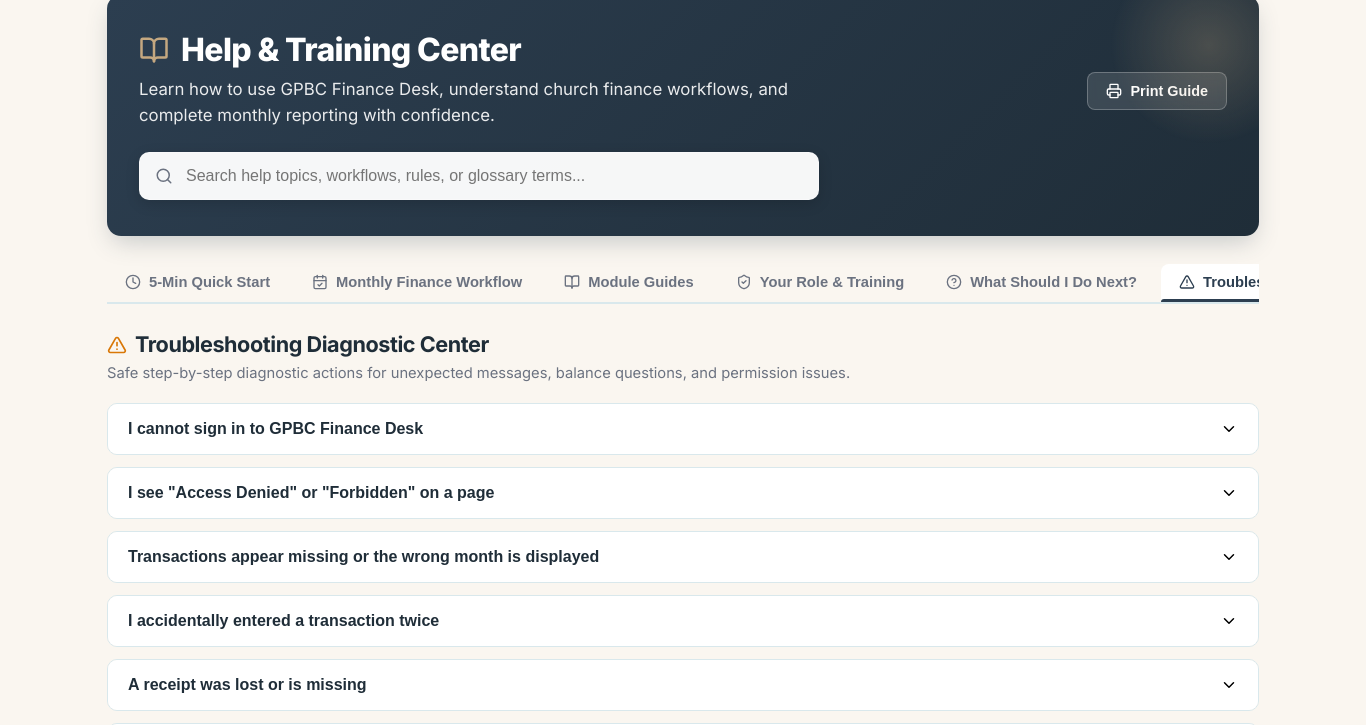
Scenario: HelpCenter Component › 9. Troubleshooting Center expands diagnosis accordions with safe steps
This screenshot has width=1366, height=725.
Click the button "I cannot sign in to GPBC Finance Desk" at (276, 429), box [108, 404, 1258, 454]
(page scrolled)
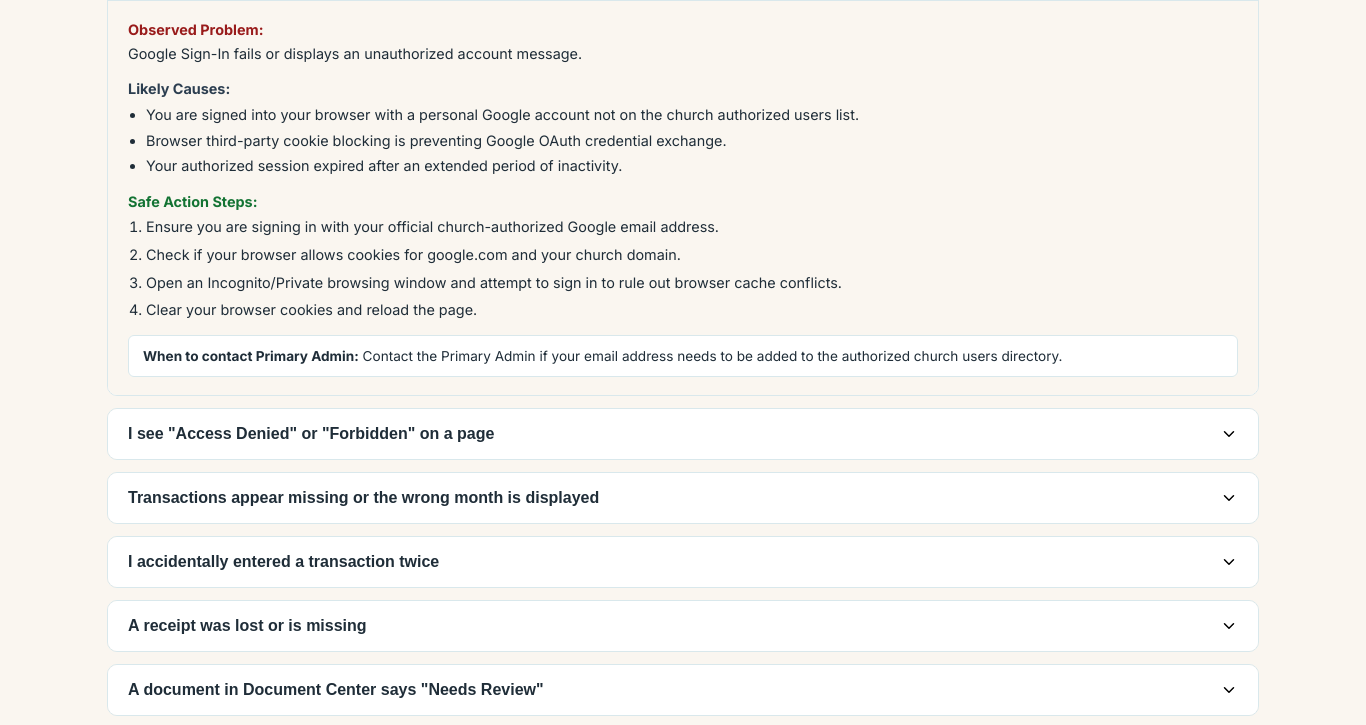
Now the text "Observed Problem:" is shown, box [128, 21, 264, 38]
Now the text "Safe Action Steps:" is shown, box [128, 193, 258, 210]
Now the text "When to contact Primary Admin:" is shown, box [143, 348, 359, 364]
